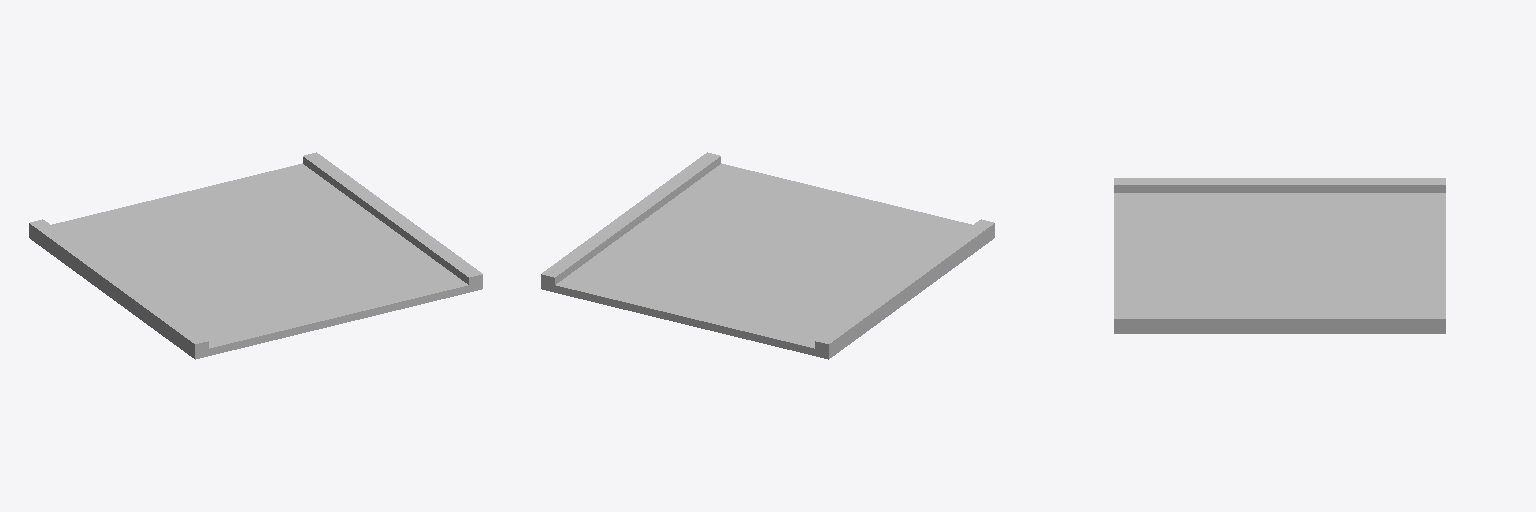
Rendered from zebra crossing.obj.
3 views of the same model, side by side, from view 1: azimuth 30°, elevation 25°; view 2: azimuth 150°, elevation 25°; view 3: azimuth 270°, elevation 25° (orthographic).
Parts seen in each view (by area): view 1: object 1; view 2: object 1; view 3: object 1.
Boxes of the visible parts, x1,y1,x2,y2 form: object 1: [29, 152, 482, 359]; object 1: [541, 152, 994, 359]; object 1: [1114, 178, 1445, 333].
Bounding box in the file's own units: 4 × 0.2 × 4.